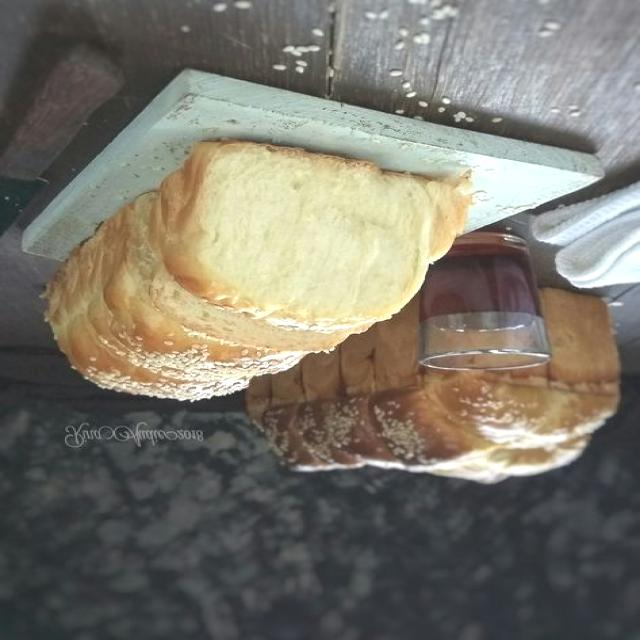roti tawar: (42, 138, 474, 399)
